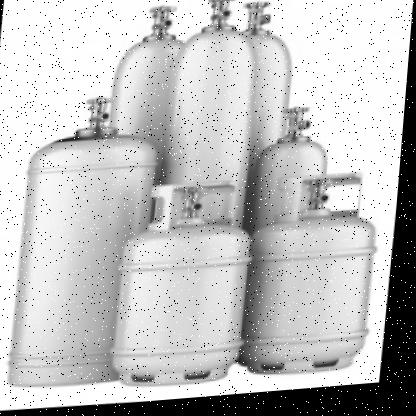gas-tank: (0, 106, 175, 405), (238, 166, 393, 395), (112, 174, 261, 401)
